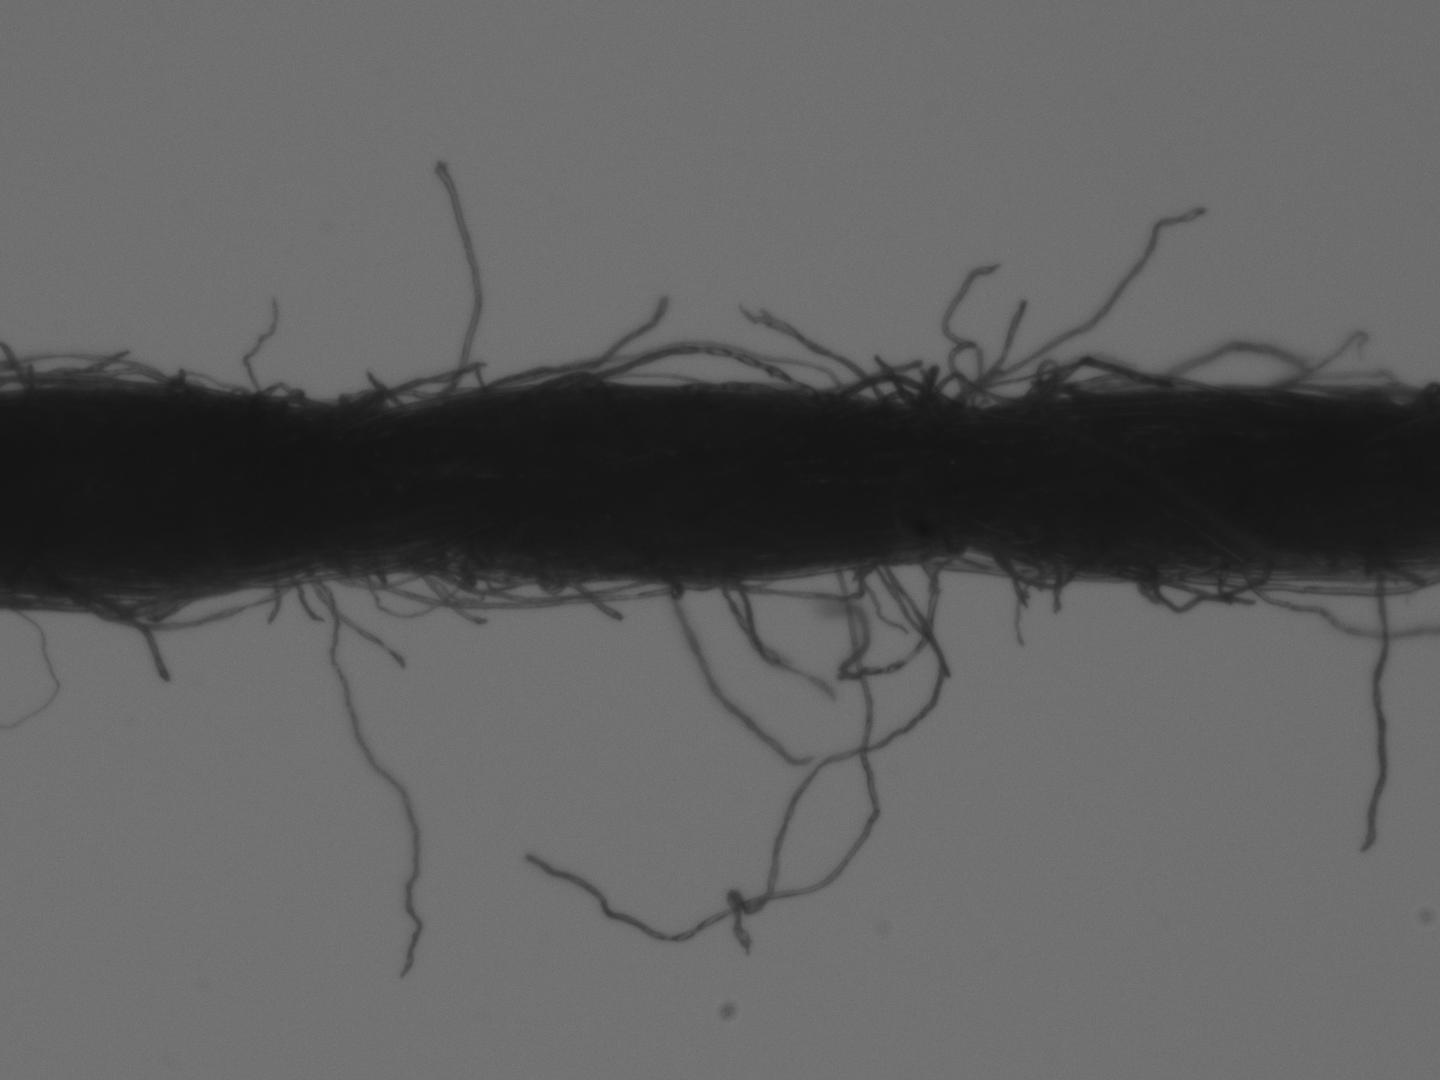loop_fiber: (68, 568, 320, 636), (591, 338, 815, 388), (331, 353, 492, 420), (1135, 556, 1276, 619), (434, 566, 642, 606), (983, 533, 1107, 597), (359, 567, 466, 623), (723, 563, 872, 602), (836, 358, 941, 402), (245, 377, 312, 400), (1030, 360, 1058, 404), (536, 369, 605, 386)
protruding_fiber: (659, 582, 814, 773), (433, 153, 485, 404)
